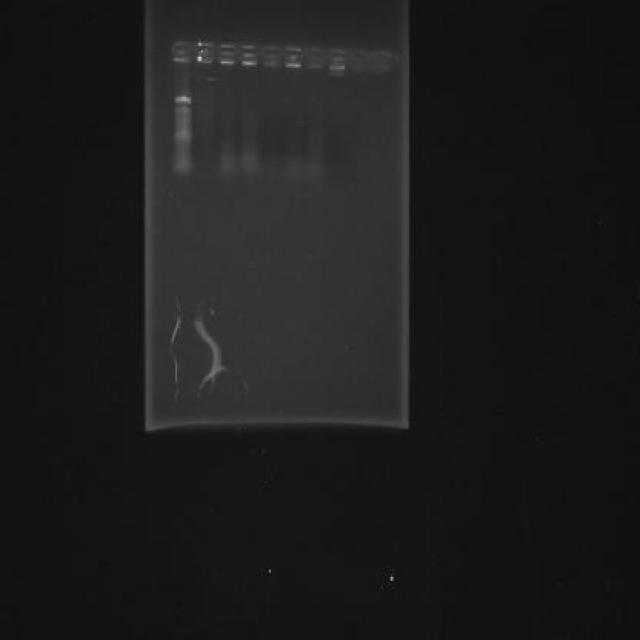L: (168, 36, 401, 81)
M: (170, 72, 195, 182)
P: (238, 152, 258, 174), (172, 158, 194, 177), (218, 152, 238, 172), (282, 158, 302, 178), (304, 159, 324, 178), (172, 128, 194, 144), (172, 92, 194, 106), (174, 106, 192, 114)
Pc: (368, 44, 396, 78), (172, 38, 192, 66), (350, 44, 368, 74), (218, 39, 236, 67), (240, 42, 258, 68), (284, 43, 302, 69), (196, 40, 213, 66), (307, 44, 324, 70), (264, 42, 280, 68), (330, 47, 346, 71)
